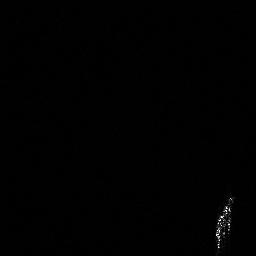ship: (210, 192, 237, 254)
